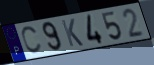2: (122, 7, 145, 39)
4: (87, 13, 105, 46)
5: (100, 10, 124, 41)
9: (42, 20, 64, 54)
C: (20, 25, 43, 56)
K: (60, 18, 85, 48)
